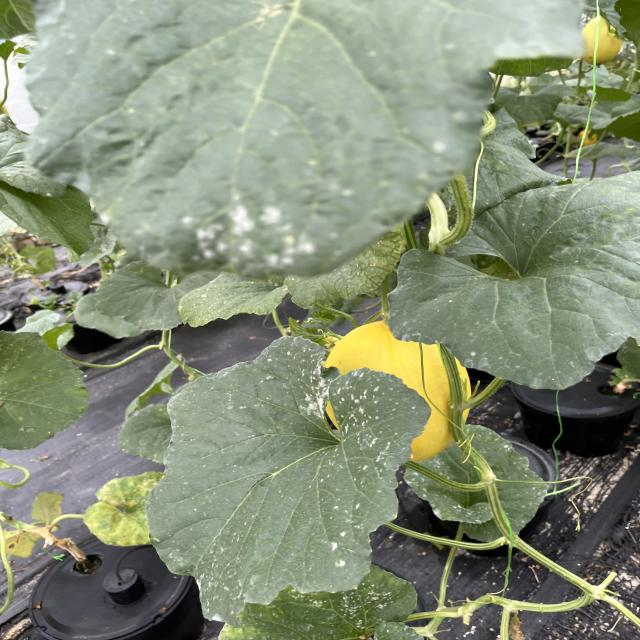downy mildew: (0, 328, 94, 451), (80, 470, 174, 548), (1, 488, 66, 560)
healthy: (386, 170, 640, 390)
powdery mildew: (18, 0, 587, 280), (145, 334, 435, 628), (404, 422, 549, 546), (214, 562, 426, 640)
